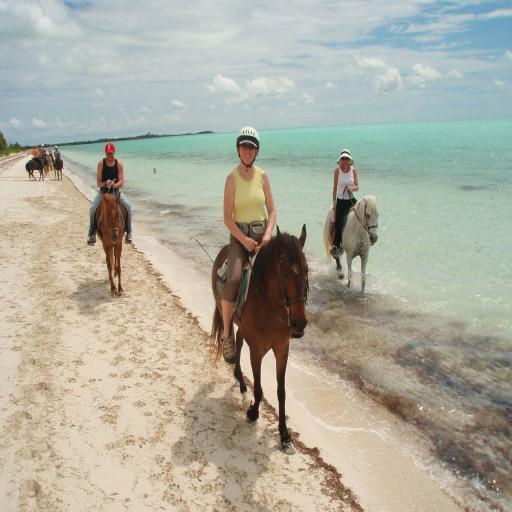horse: (206, 223, 310, 456), (322, 194, 379, 292), (92, 194, 131, 298), (24, 151, 62, 179)
